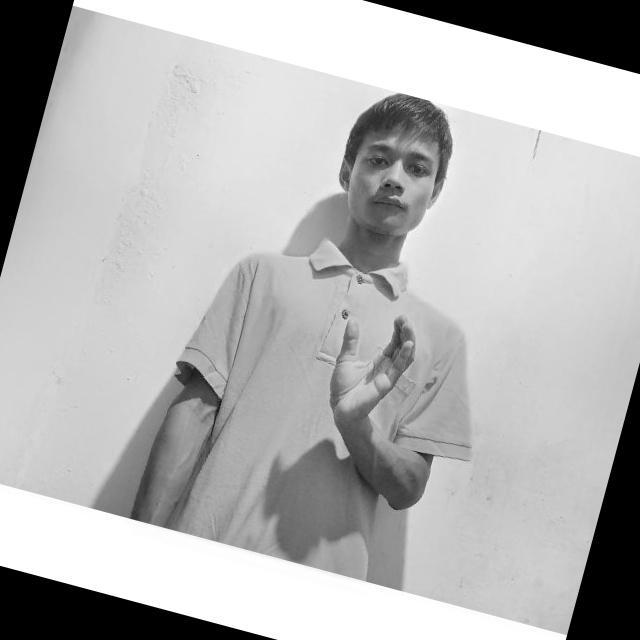U: (325, 305, 416, 414)
